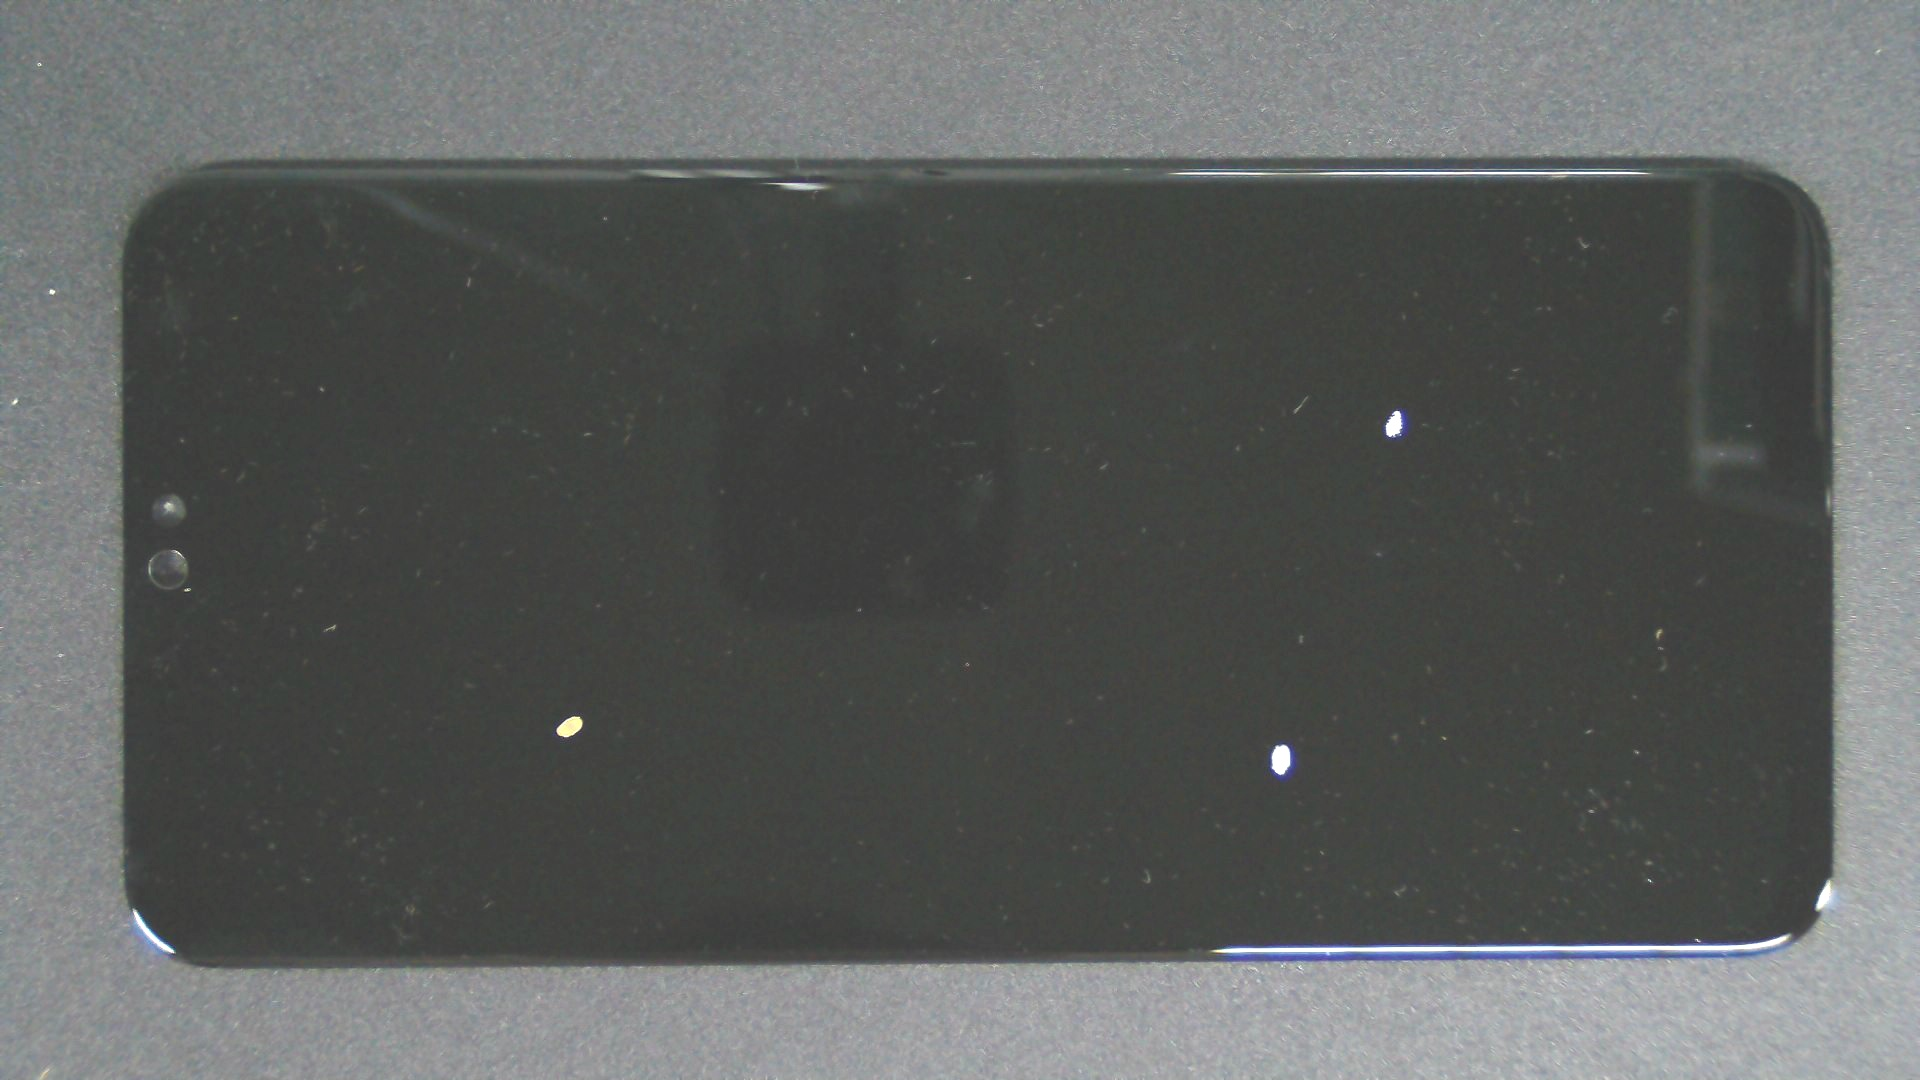oil: (641, 369, 1913, 1080), (699, 204, 1920, 616), (286, 357, 857, 1073)
